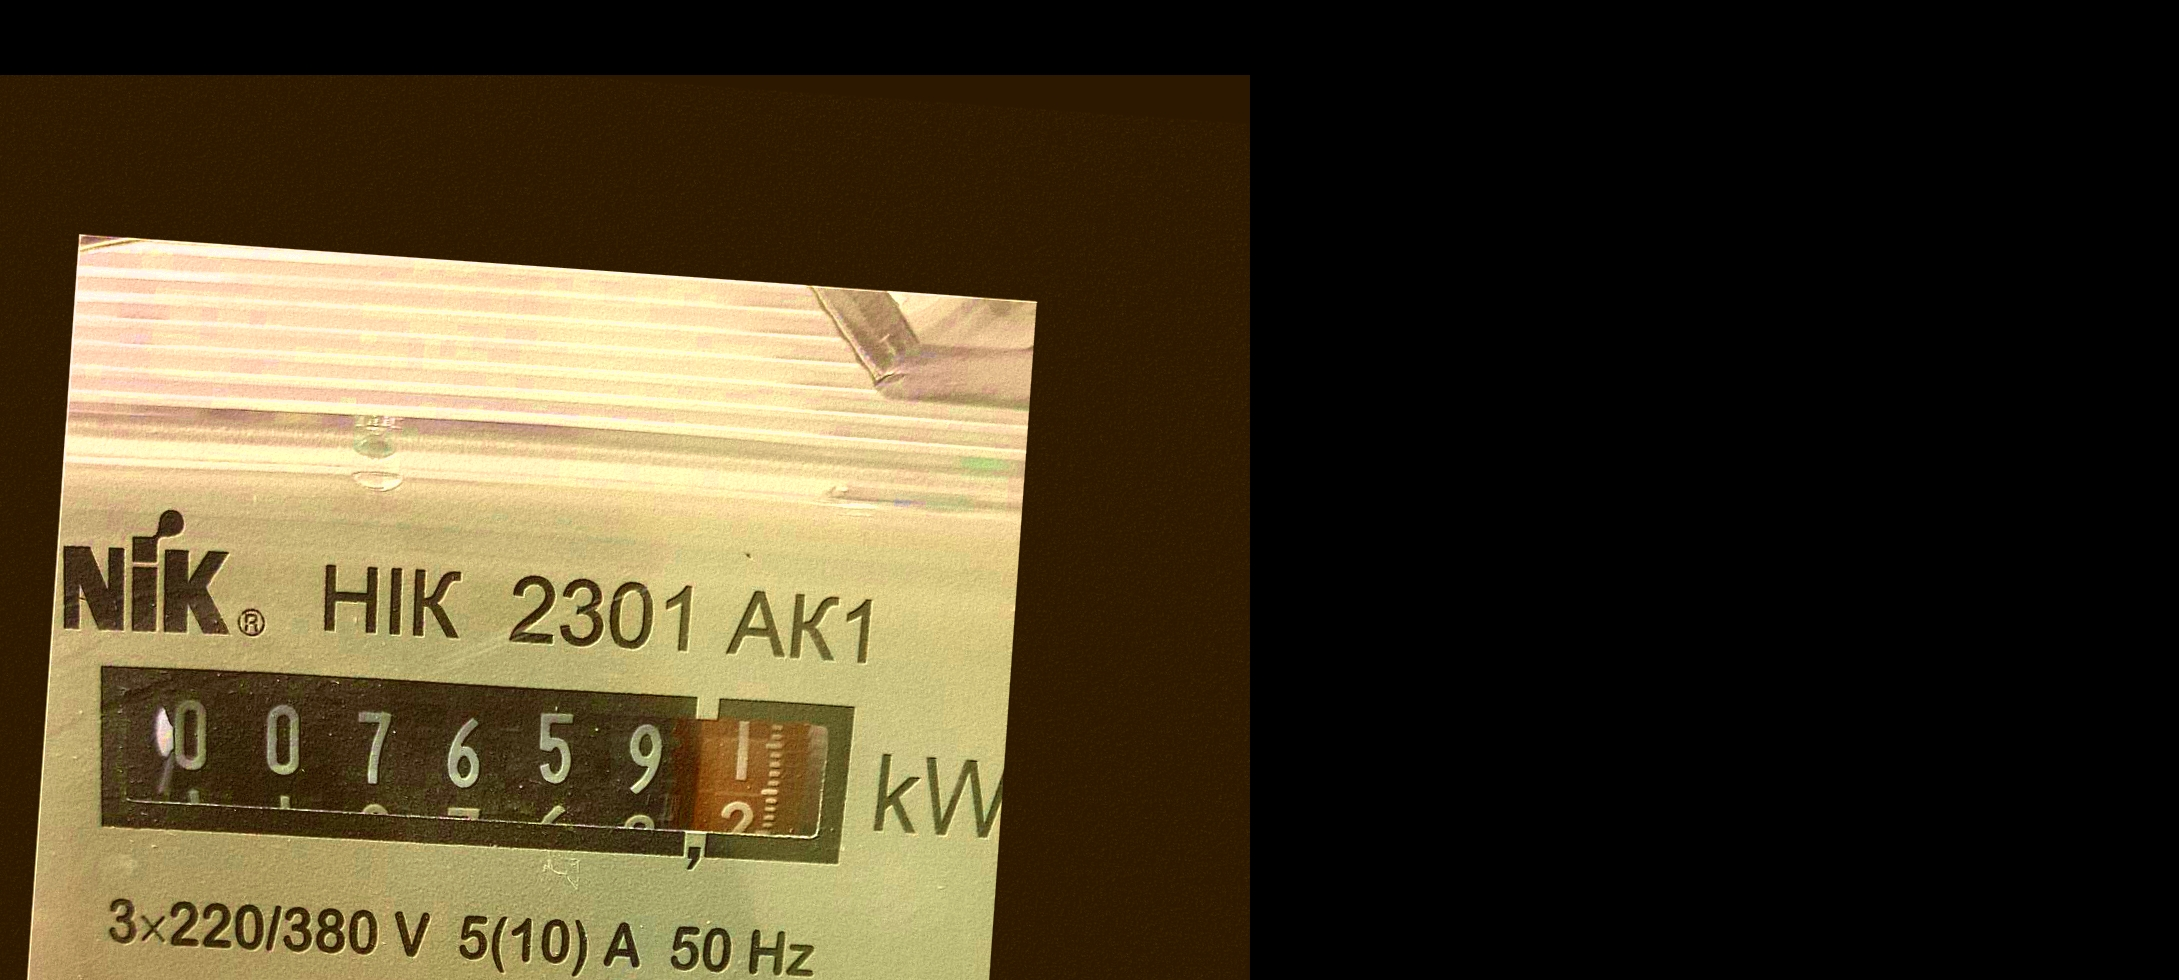0: (250, 694, 313, 784), (163, 689, 218, 783)
1: (724, 713, 763, 791)
5: (528, 706, 579, 791)
6: (434, 708, 491, 795)
7: (347, 703, 395, 792)
9: (620, 714, 668, 806)
screen: (69, 632, 875, 901)
